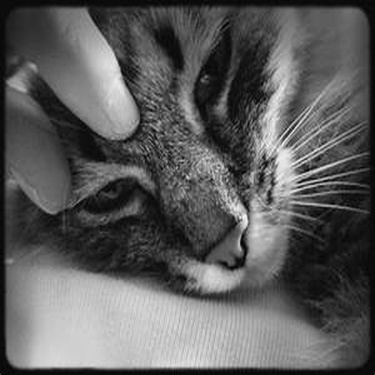cat: (5, 10, 368, 368)
